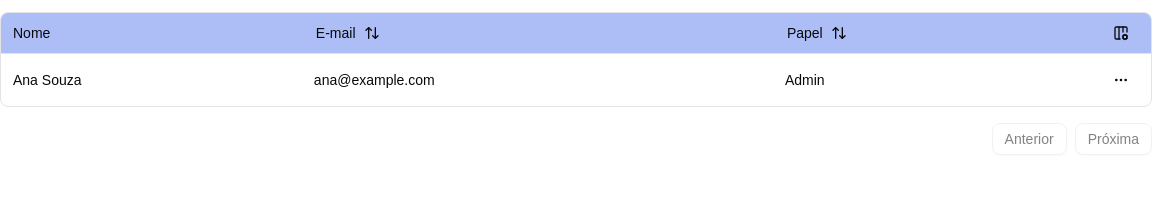
Test: DataTable — visibilidade de colunas › lista só colunas ocultáveis com rótulo legível
Click the button named "Configurar colunas" at coordinates (1121, 33), box left=1103, top=15, right=1139, bottom=51
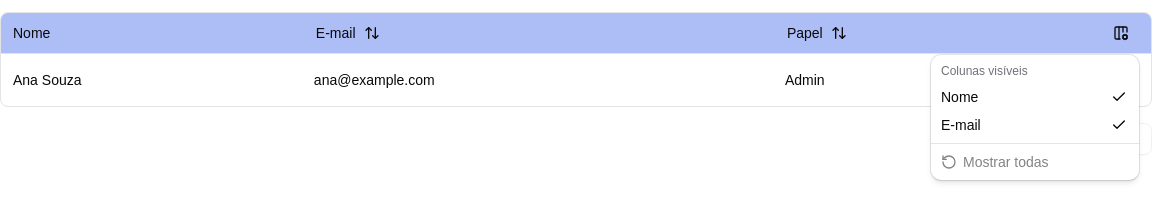
Expected: the menu item "Nome" is shown, left=941, top=89, right=1127, bottom=105
Expected: the menu item "E-mail" is shown, left=941, top=117, right=1127, bottom=133
